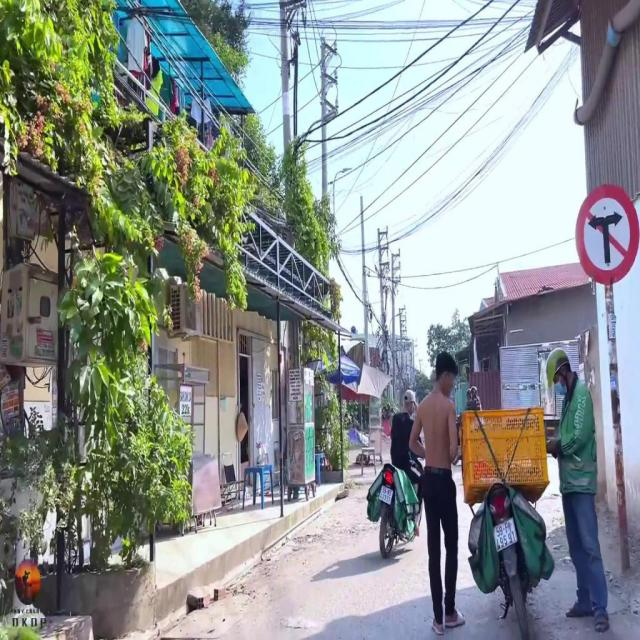cam_re_trai_va_phai: (575, 184, 639, 284)
